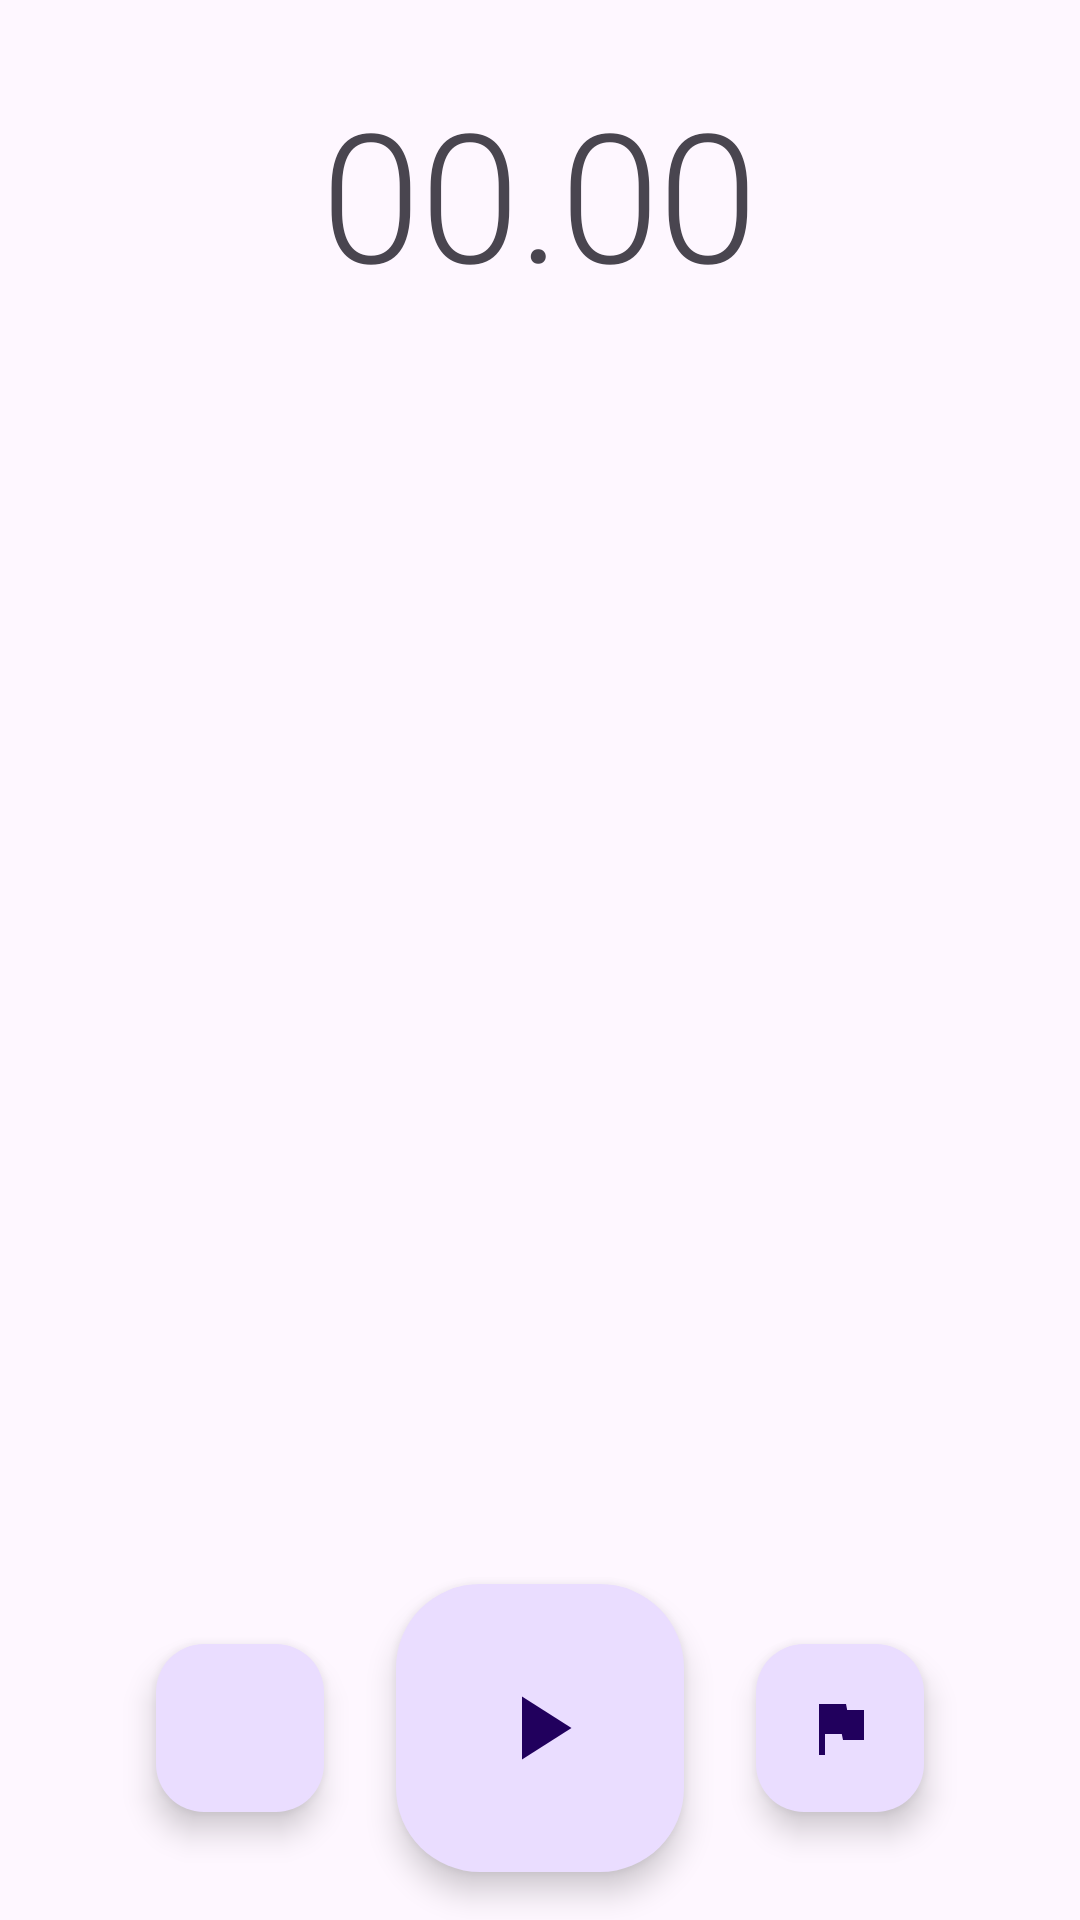

Icons on this 1080×1920 Android screen, each with the point to tap as [x,y]:
Lap: [840,1728]
Start: [540,1728]
